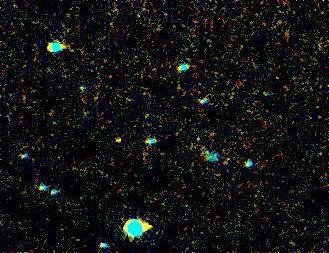star: (103, 124, 133, 154)
